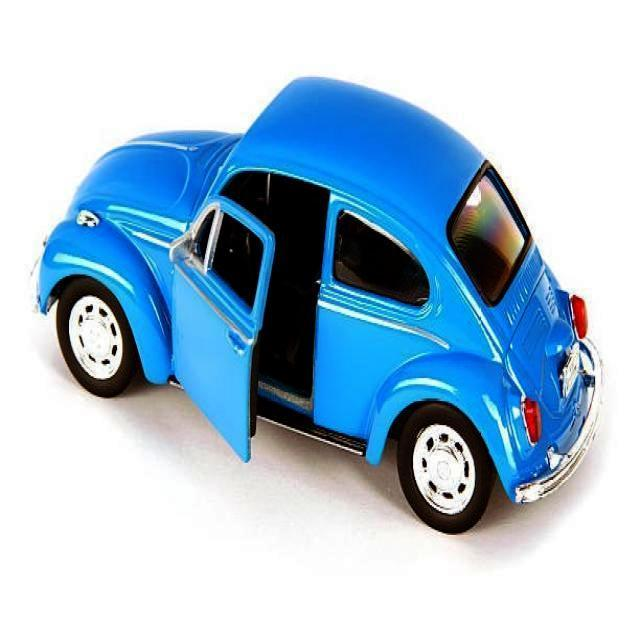car: (42, 79, 600, 528)
